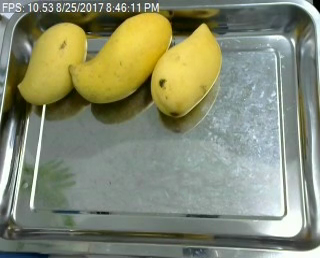Mango: (65, 9, 174, 107), (146, 23, 226, 119), (14, 21, 91, 103)
